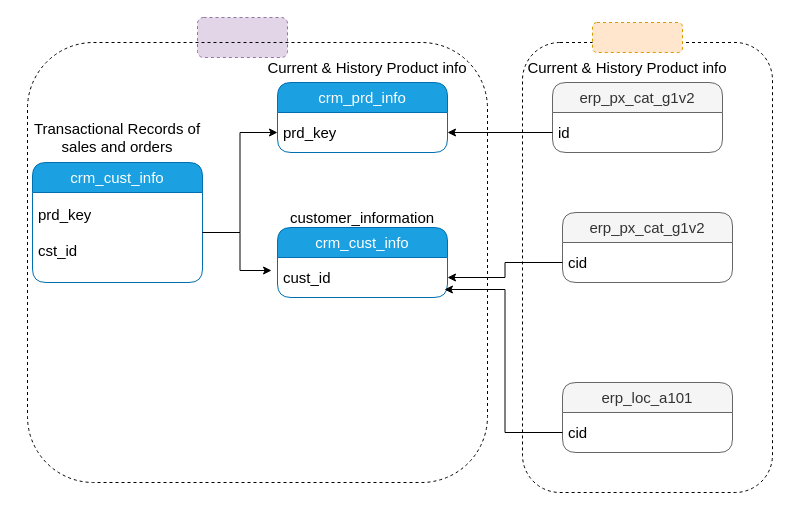
Image size: 790x510. Some labels were removed from this diagram. Each missing label, with the centre of its shape:
CRM: the point at 242,37
ERP: the point at 637,37
